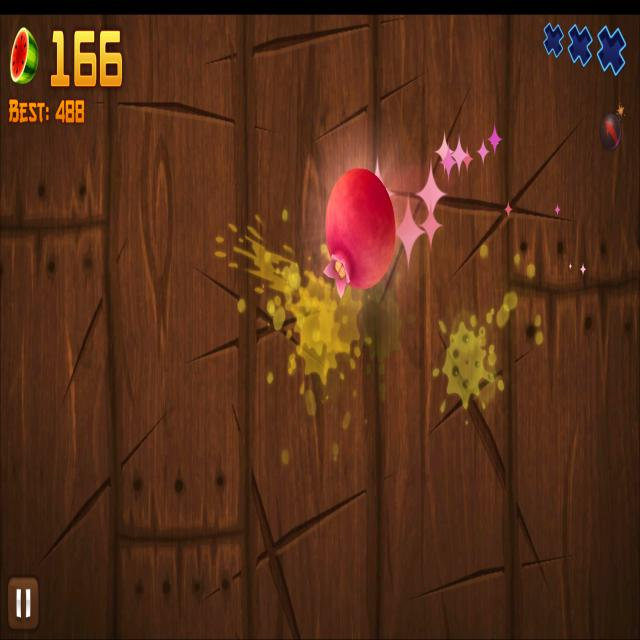fruit: (323, 168, 397, 294)
